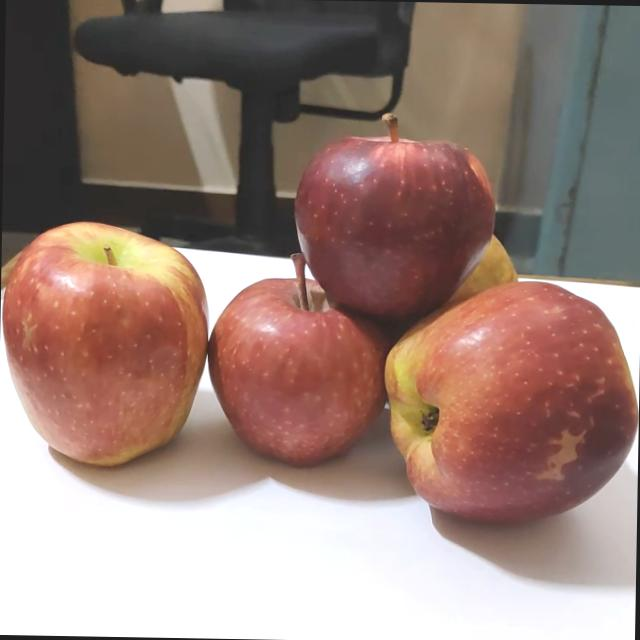apple: (384, 279, 640, 539), (12, 215, 224, 466), (300, 104, 514, 323), (214, 249, 406, 471), (438, 225, 539, 313)
